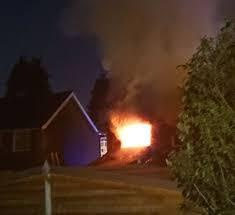fire: (112, 111, 153, 149)
